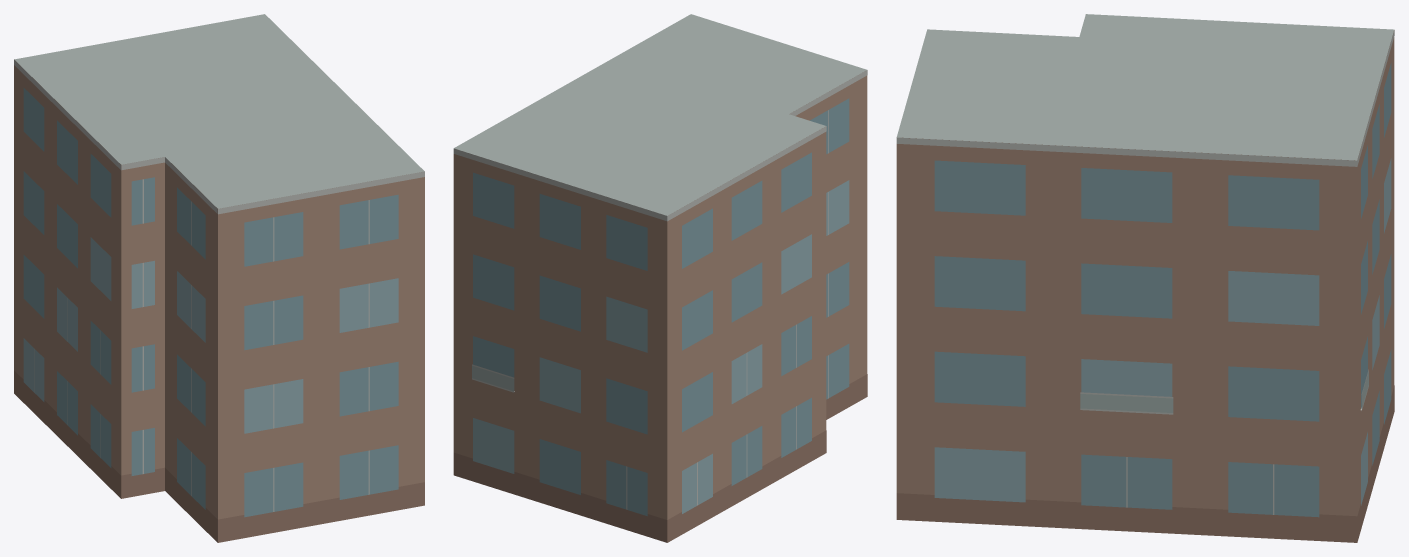
The model's file is survey-upis-32747307.glb.
The picture shows the model from 3 angles, left to right: view 1: azimuth 30°, elevation 25°; view 2: azimuth 150°, elevation 25°; view 3: azimuth 270°, elevation 25°; orthographic projection. The views are drawn at different scales.
Parts seen in each view (by area): view 1: survey-upis-32747307.tmp; view 2: survey-upis-32747307.tmp; view 3: survey-upis-32747307.tmp.
Boxes of the visible parts, x1,y1,x2,y2 form: survey-upis-32747307.tmp: [14, 14, 424, 542]; survey-upis-32747307.tmp: [453, 14, 867, 542]; survey-upis-32747307.tmp: [896, 14, 1394, 542].
Size of the model in its own units: 12.05 by 14.65 by 17.3.
